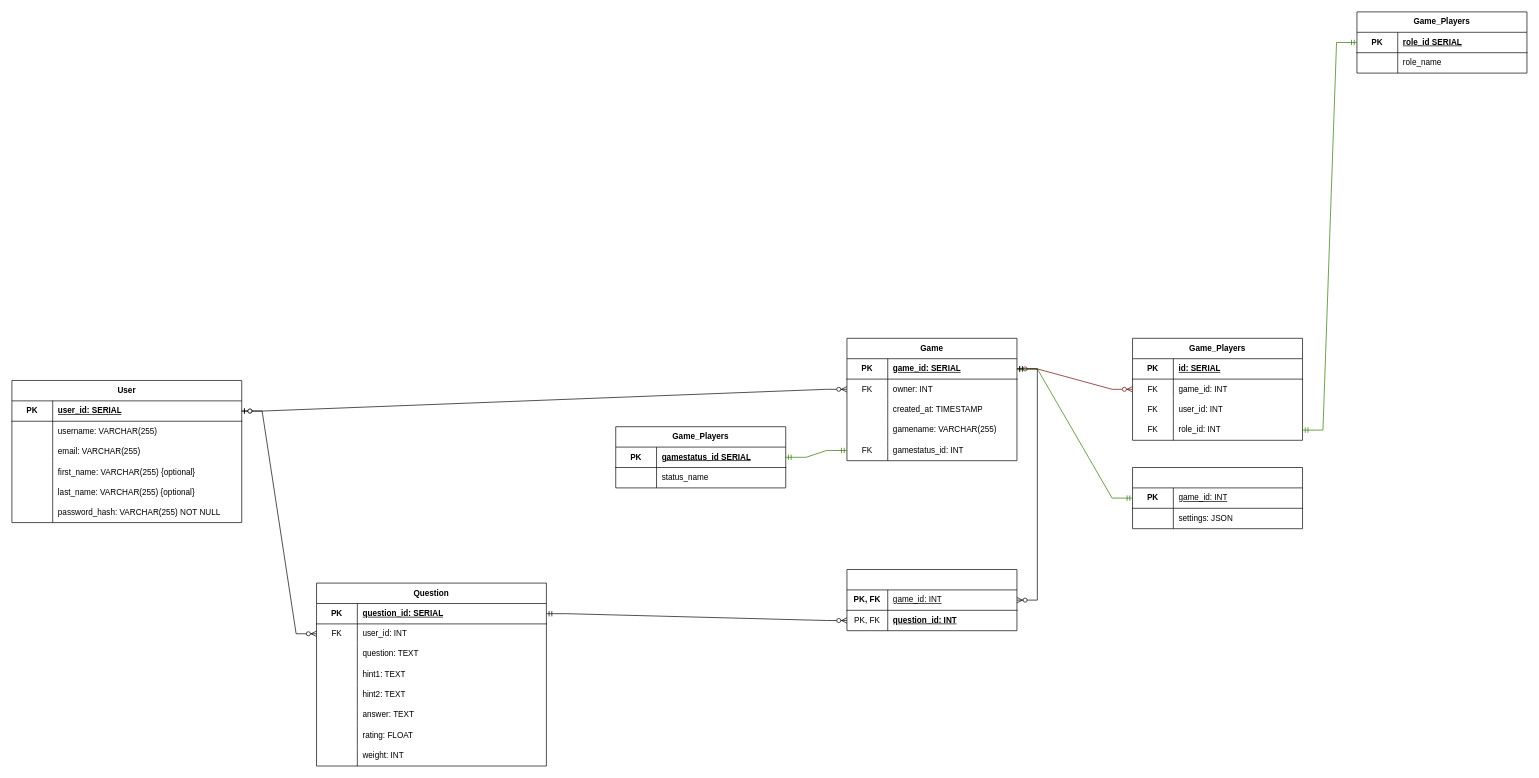
Some shapes in this 1539 by 778 pixel diagram are drawn without their labels. Here are the shapes that lost their labels. From the top down, the box of each, then its label:
(1132, 467, 1303, 529): Game_Settings
(846, 569, 1017, 631): Game_Question
